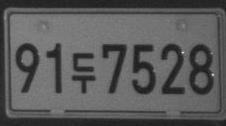1: (44, 42, 69, 94)
2: (159, 42, 185, 95)
5: (131, 44, 156, 96)
7: (101, 42, 127, 94)
8: (188, 42, 214, 95)
9: (14, 42, 40, 93)
두: (70, 51, 96, 95)
